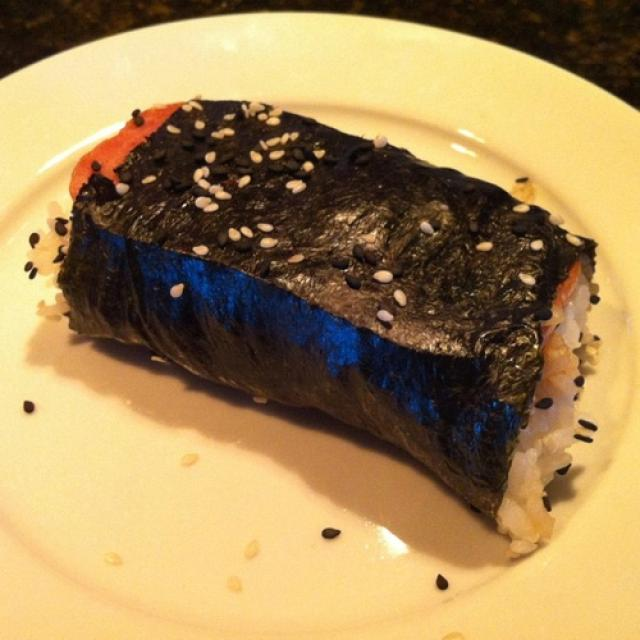寿司卷物: (27, 45, 617, 594)
